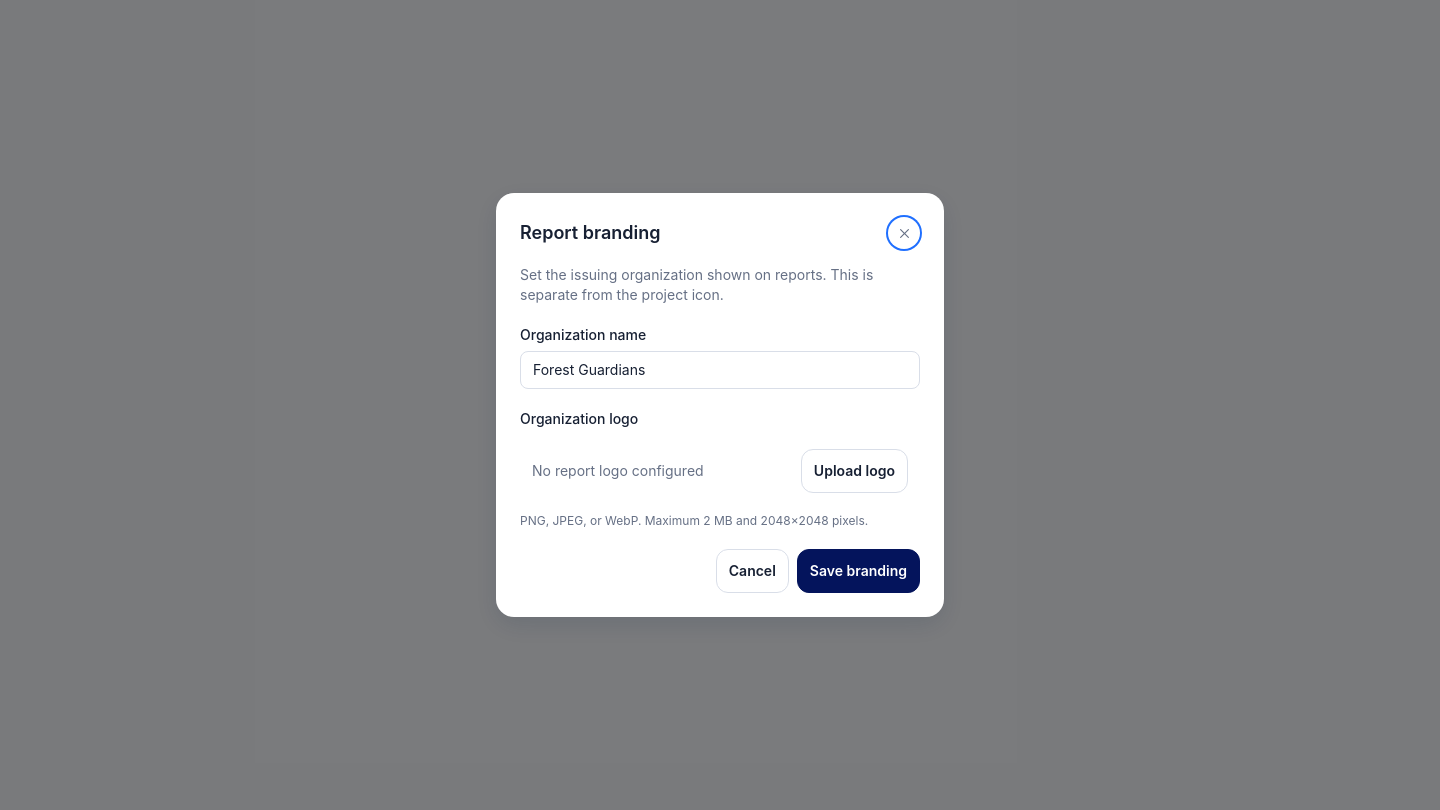
Test: ReportBrandingDialog › rejects a blank organization name without writing project state
Clear the field labelled "Organization name". click: (720, 370)
box: [520,351,920,389]
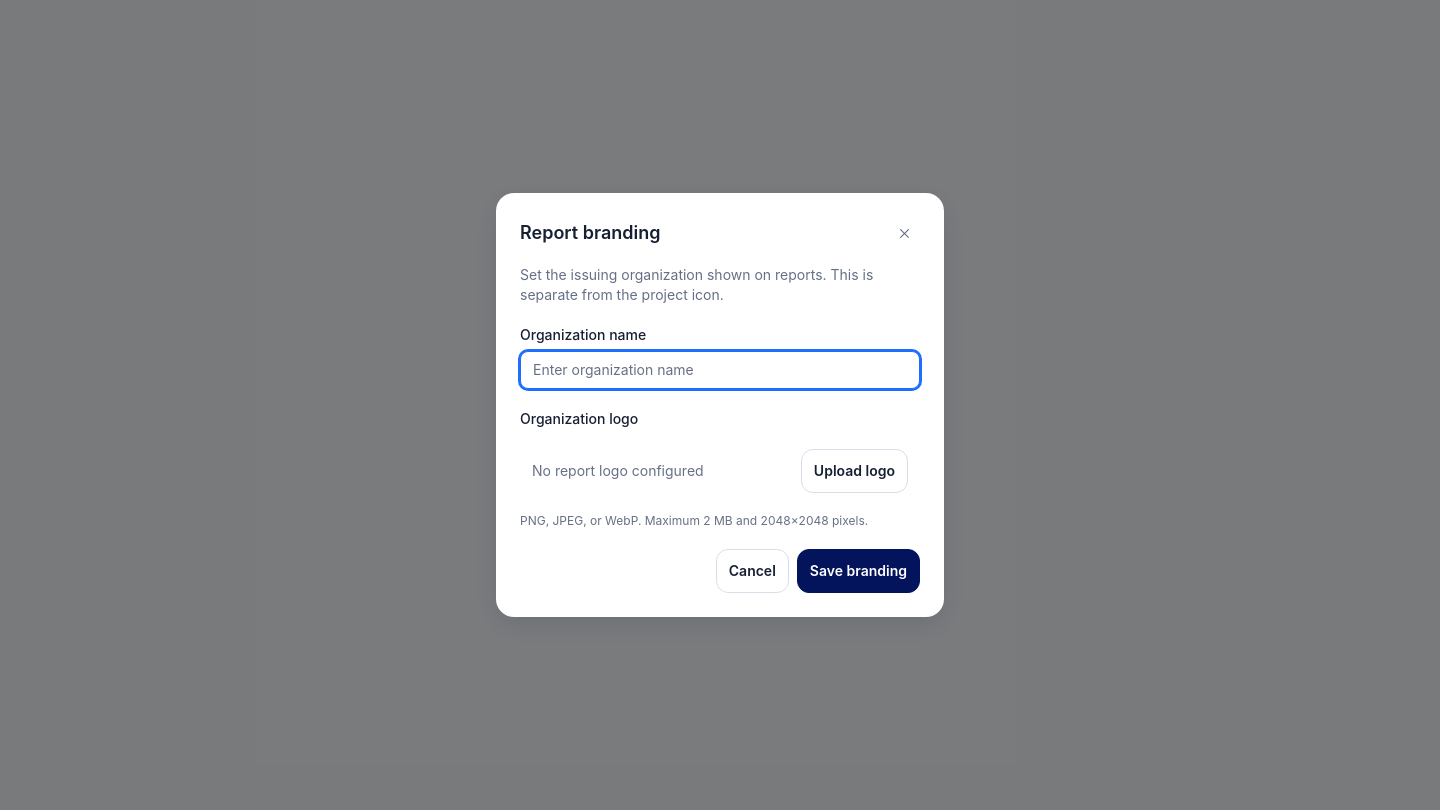
Click the button "Save branding". click: (858, 571)
box: [797,549,920,593]
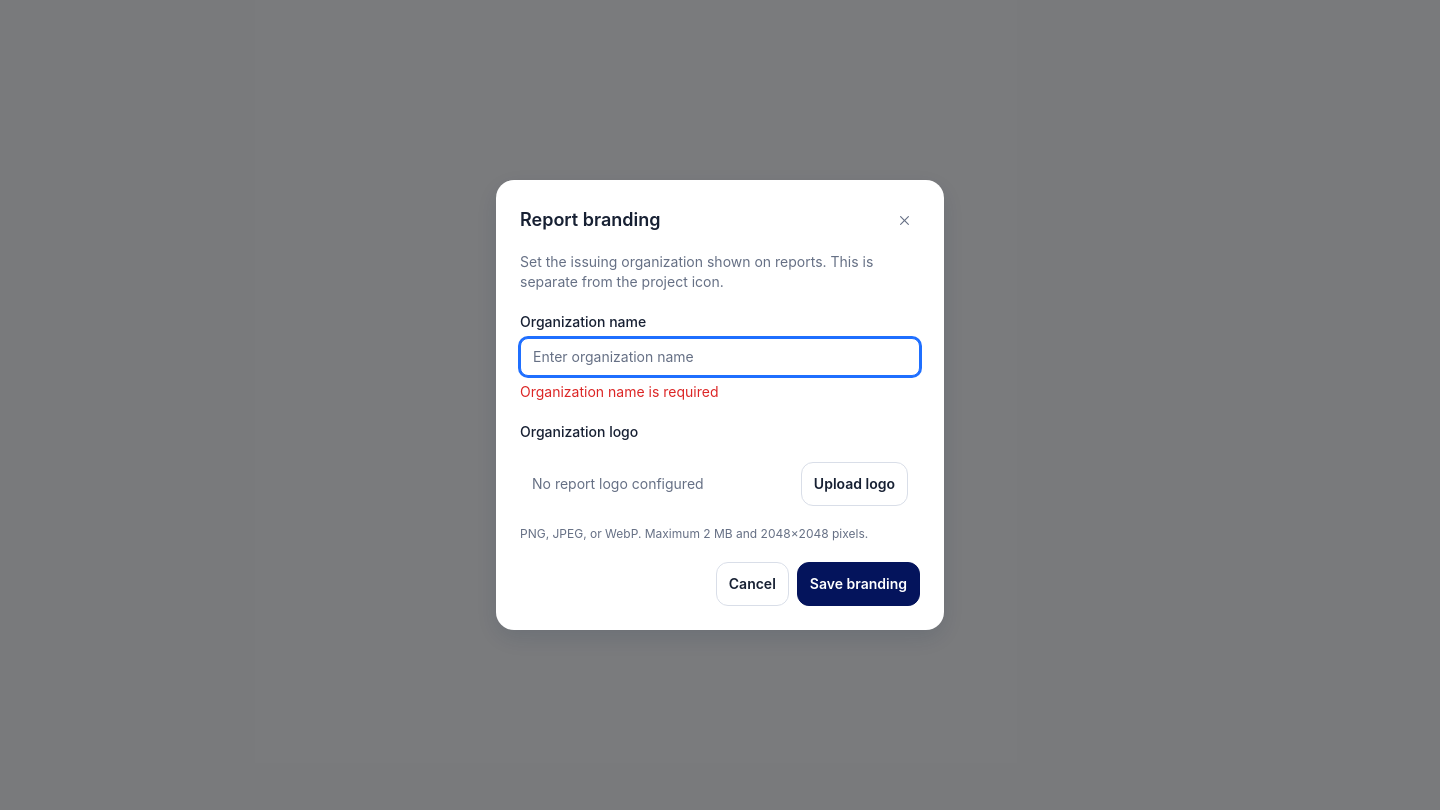
expect the message reads "Organization name is required": met, box [520,383,718,400]
